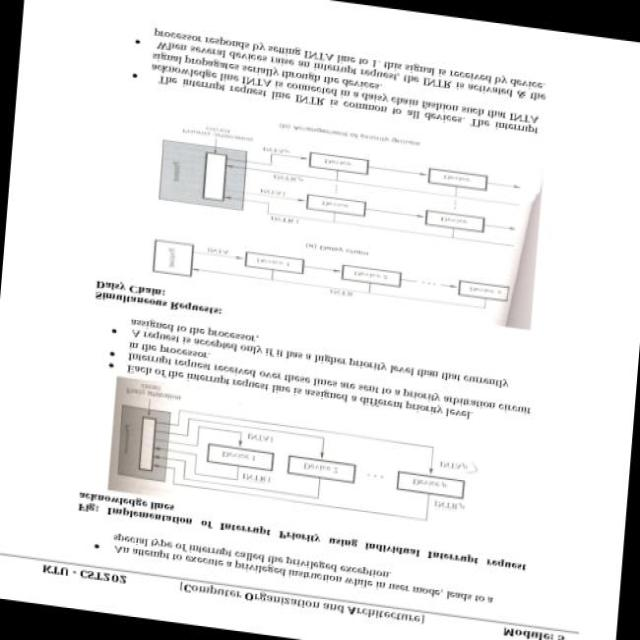Figure Detection - v3 Dataset Version2: (136, 101, 542, 333), (107, 376, 486, 539)
